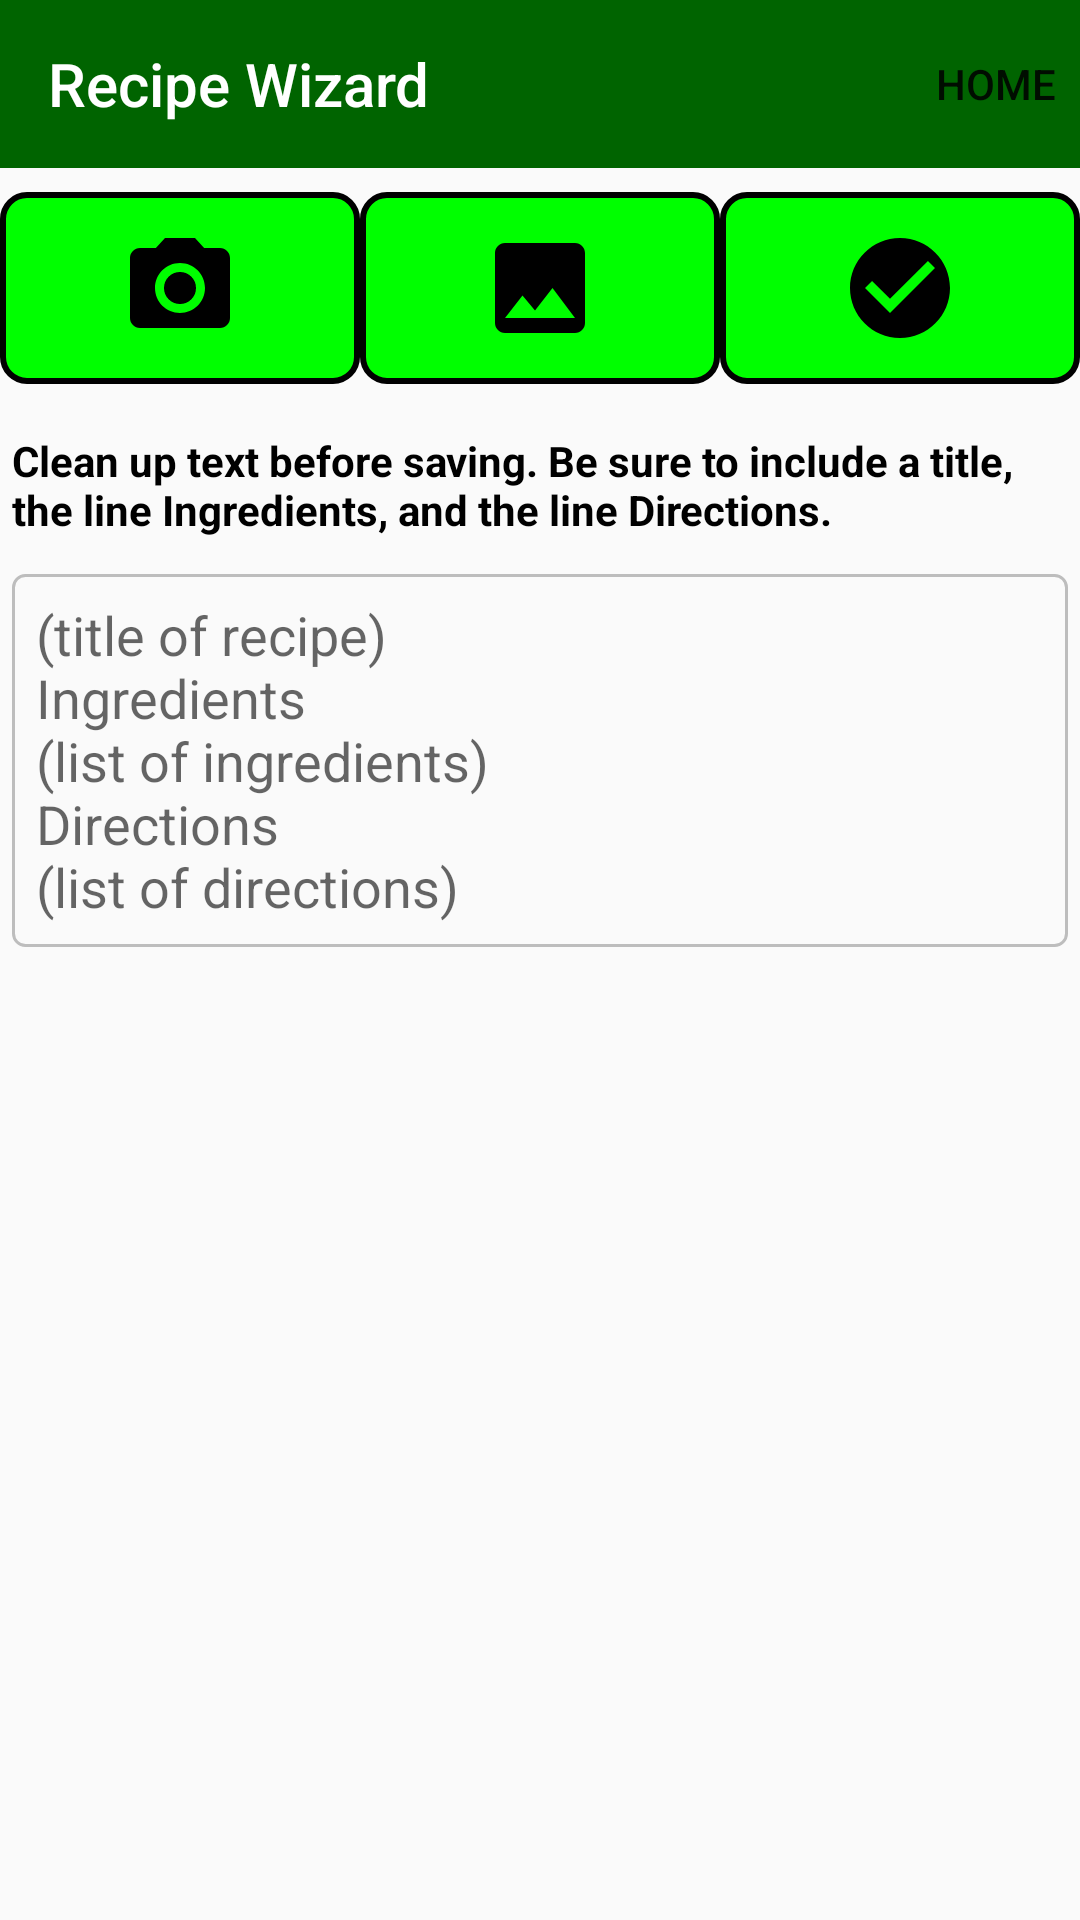

Icon click points for this 1080 x 1920 phone screenshot, format point (x, y):
Finish capturing text: point (900, 288)
Get text from saved image: point (540, 288)
Get text with camera: point (180, 288)
